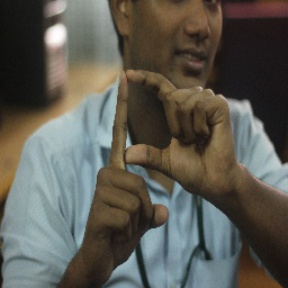D: (96, 65, 220, 197)
